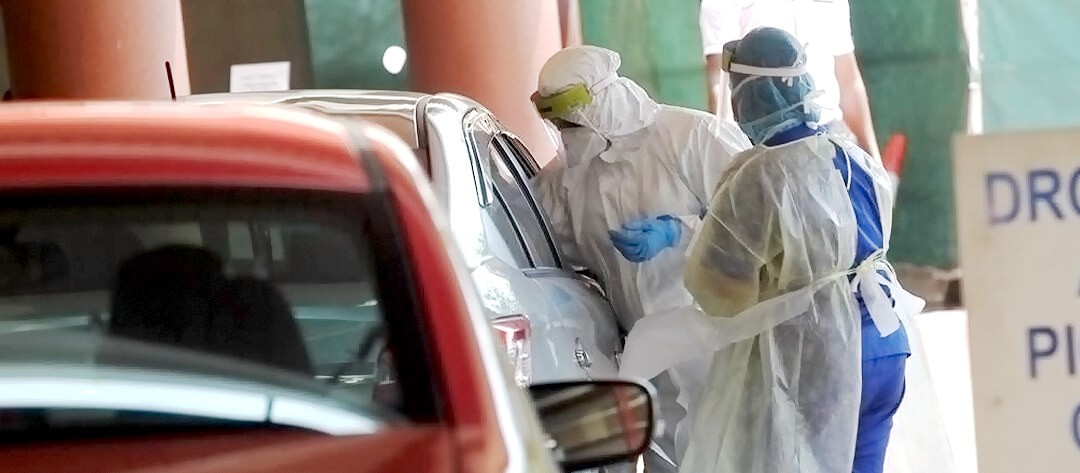Coverall: (526, 43, 765, 473)
Face_Shield: (711, 36, 814, 155), (528, 73, 614, 180)
Gloves: (604, 208, 686, 268)
